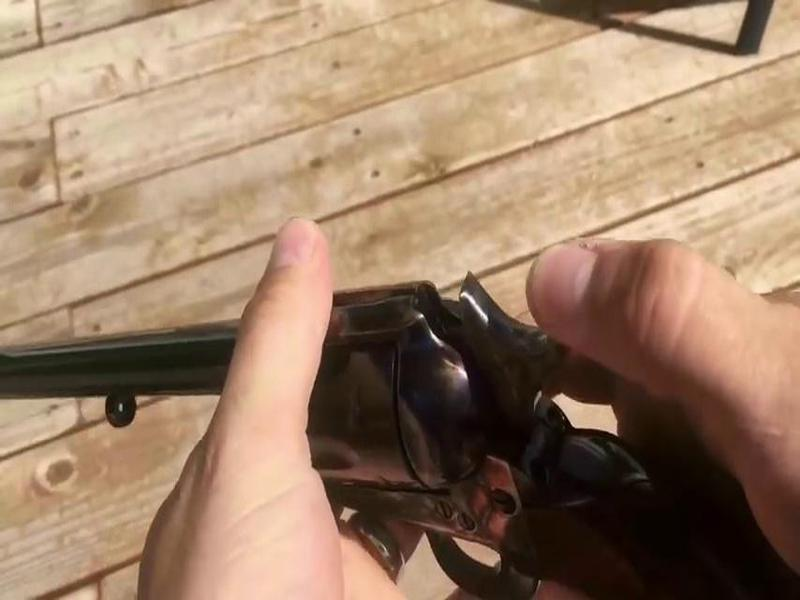Revolver: (22, 261, 735, 593)
